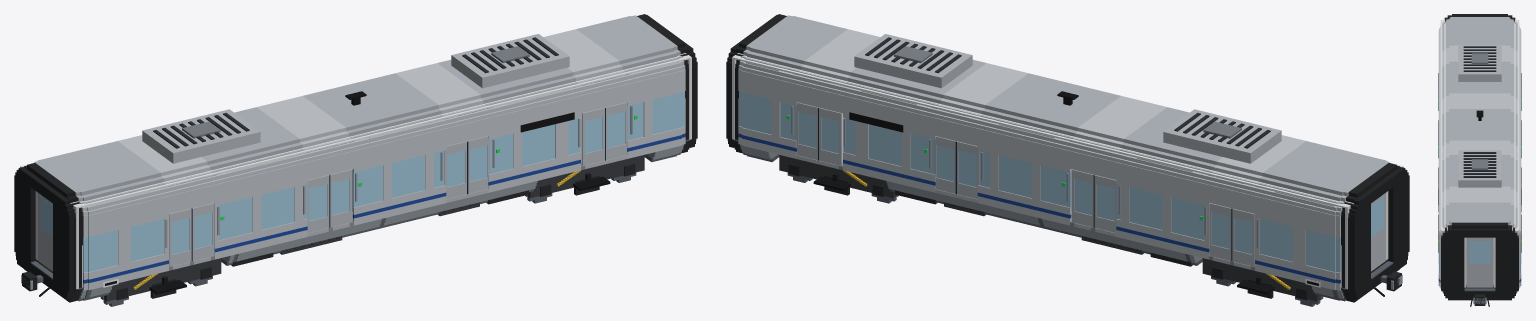
Rendered from r211_car.obj.
3 renders of one model, left to right at view 1: azimuth 30°, elevation 25°; view 2: azimuth 150°, elevation 25°; view 3: azimuth 270°, elevation 25°, orthographic. The views are drawn at different scales.
Visible parts, largest first — view 1: SHELL, SHELL_roof, SHELL_diaphragm, SHELL_ceiling, BOGEY_REAR, BOGEY_FRONT, EXTERNAL_DOOR_22_CG_DR4_TOGGLE_TL_-0.61_X, EXTERNAL_DOOR_16_CG_DR3_TOGGLE_TL_-0.61_X, FRAME, EXTERNAL_DOOR_4_CG_DR1_TOGGLE_TL_-0.61_X, EXTERNAL_DOOR_10_CG_DR2_TOGGLE_TL_-0.61_X, EXTERNAL_DOOR_11_CG_DR2_TOGGLE_TL_0.61_X (+7 smaller); view 2: SHELL, SHELL_roof, SHELL_diaphragm, SHELL_ceiling, BOGEY_REAR, BOGEY_FRONT, EXTERNAL_DOOR_25_CG_DL4_TOGGLE_TL_-0.61_X, EXTERNAL_DOOR_19_CG_DL3_TOGGLE_TL_-0.61_X, FRAME, EXTERNAL_DOOR_7_CG_DL1_TOGGLE_TL_-0.61_X, EXTERNAL_DOOR_13_CG_DL2_TOGGLE_TL_-0.61_X, EXTERNAL_DOOR_14_CG_DL2_TOGGLE_TL_0.61_X (+7 smaller); view 3: SHELL, SHELL_diaphragm, SHELL_roof, SHELL_ceiling, CONNECTING_DOOR_2_CG_CF_TOGGLE_TL_0.98_Z, SHELL_end, SHELL_handle, FRAME, SHELL_gangway.
Boxes of the visible parts, box(x1,y1,x2,y2) form: SHELL: box(24, 14, 692, 302); SHELL_roof: box(142, 34, 569, 163); SHELL_diaphragm: box(14, 15, 697, 299); SHELL_ceiling: box(22, 53, 689, 208); BOGEY_REAR: box(104, 258, 221, 301); BOGEY_FRONT: box(527, 155, 644, 198); EXTERNAL_DOOR_22_CG_DR4_TOGGLE_TL_-0.61_X: box(581, 107, 605, 165); EXTERNAL_DOOR_16_CG_DR3_TOGGLE_TL_-0.61_X: box(444, 141, 468, 199); FRAME: box(21, 190, 528, 296); EXTERNAL_DOOR_4_CG_DR1_TOGGLE_TL_-0.61_X: box(169, 208, 192, 266); EXTERNAL_DOOR_10_CG_DR2_TOGGLE_TL_-0.61_X: box(307, 175, 330, 232); EXTERNAL_DOOR_11_CG_DR2_TOGGLE_TL_0.61_X: box(330, 169, 352, 227); SHELL: box(731, 14, 1399, 302); SHELL_roof: box(854, 34, 1281, 163); SHELL_diaphragm: box(726, 15, 1409, 299); SHELL_ceiling: box(734, 53, 1401, 208); BOGEY_REAR: box(1202, 258, 1319, 301); BOGEY_FRONT: box(779, 155, 896, 198); EXTERNAL_DOOR_25_CG_DL4_TOGGLE_TL_-0.61_X: box(818, 107, 842, 165); EXTERNAL_DOOR_19_CG_DL3_TOGGLE_TL_-0.61_X: box(955, 141, 979, 199); FRAME: box(895, 190, 1402, 296); EXTERNAL_DOOR_7_CG_DL1_TOGGLE_TL_-0.61_X: box(1231, 208, 1254, 266); EXTERNAL_DOOR_13_CG_DL2_TOGGLE_TL_-0.61_X: box(1093, 175, 1116, 232); EXTERNAL_DOOR_14_CG_DL2_TOGGLE_TL_0.61_X: box(1071, 169, 1093, 227); SHELL: box(1438, 14, 1521, 300); SHELL_diaphragm: box(1441, 15, 1518, 298); SHELL_roof: box(1458, 44, 1501, 187); SHELL_ceiling: box(1440, 20, 1519, 229); CONNECTING_DOOR_2_CG_CF_TOGGLE_TL_0.98_Z: box(1466, 237, 1493, 287); SHELL_end: box(1440, 20, 1519, 287); SHELL_handle: box(1438, 73, 1521, 252); FRAME: box(1470, 294, 1489, 306); SHELL_gangway: box(1464, 288, 1495, 290).
Bounding box in the file's own units: 19.64 × 4.01 × 3.08.
1 material, 1 textured.
